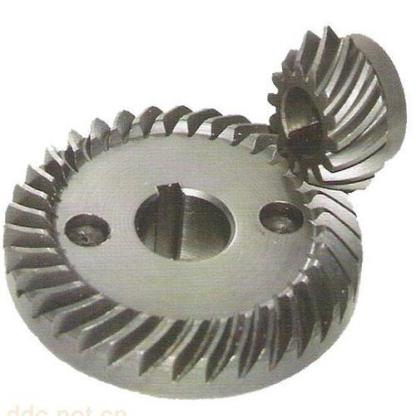FOD: (0, 100, 366, 403), (268, 25, 410, 192)
